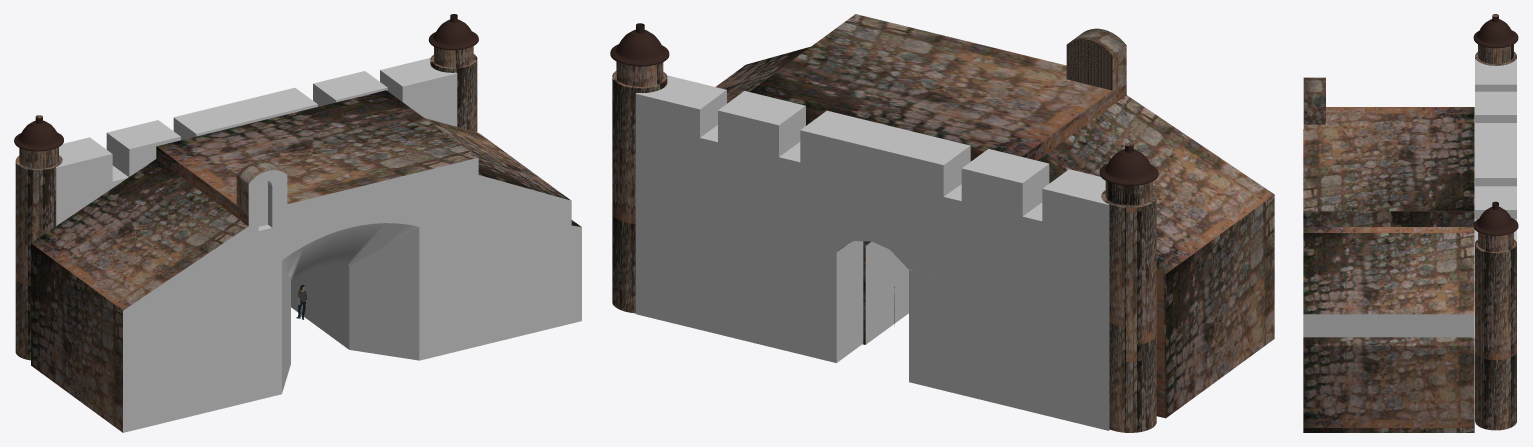
File: Modelo_Puerta_del_Conde_terminado1.fbx
The picture shows the model from 3 angles, left to right: view 1: azimuth 30°, elevation 25°; view 2: azimuth 150°, elevation 25°; view 3: azimuth 270°, elevation 25°; orthographic projection. The views are drawn at different scales.
Visible parts, largest first — view 1: Sketchup, Sketchup.002, Cube, Cylinder.002, Cylinder.001, Cylinder.004, Cylinder.003; view 2: Cube, Sketchup.002, Cylinder.002, Sketchup, Cylinder.001, Sketchup.001, Cylinder.004, Cylinder.003; view 3: Sketchup.002, Cylinder.001, Cube, Sketchup, Cylinder.004, Cylinder.003, Cylinder.002.
Part boxes in pixels (x1,y1,x2,y2): Sketchup: (123, 157, 581, 432); Sketchup.002: (31, 90, 581, 432); Cube: (55, 57, 457, 225); Cylinder.002: (15, 115, 62, 360); Cylinder.001: (430, 38, 478, 132); Cylinder.004: (428, 14, 478, 50); Cylinder.003: (14, 117, 63, 151); Cube: (635, 75, 1109, 430); Sketchup.002: (716, 14, 1274, 417); Cylinder.002: (1101, 142, 1158, 432); Sketchup: (806, 28, 1165, 418); Cylinder.001: (610, 54, 667, 313); Sketchup.001: (1066, 39, 1112, 90); Cylinder.004: (610, 23, 669, 66); Cylinder.003: (1099, 145, 1158, 185); Sketchup.002: (1303, 107, 1474, 432); Cylinder.001: (1474, 226, 1518, 430); Cube: (1475, 59, 1516, 242); Sketchup: (1303, 77, 1474, 337); Cylinder.004: (1473, 201, 1518, 235); Cylinder.003: (1473, 16, 1518, 48); Cylinder.002: (1475, 14, 1516, 65).
Size of the model in its own units: 2342 by 1145 by 1021.
